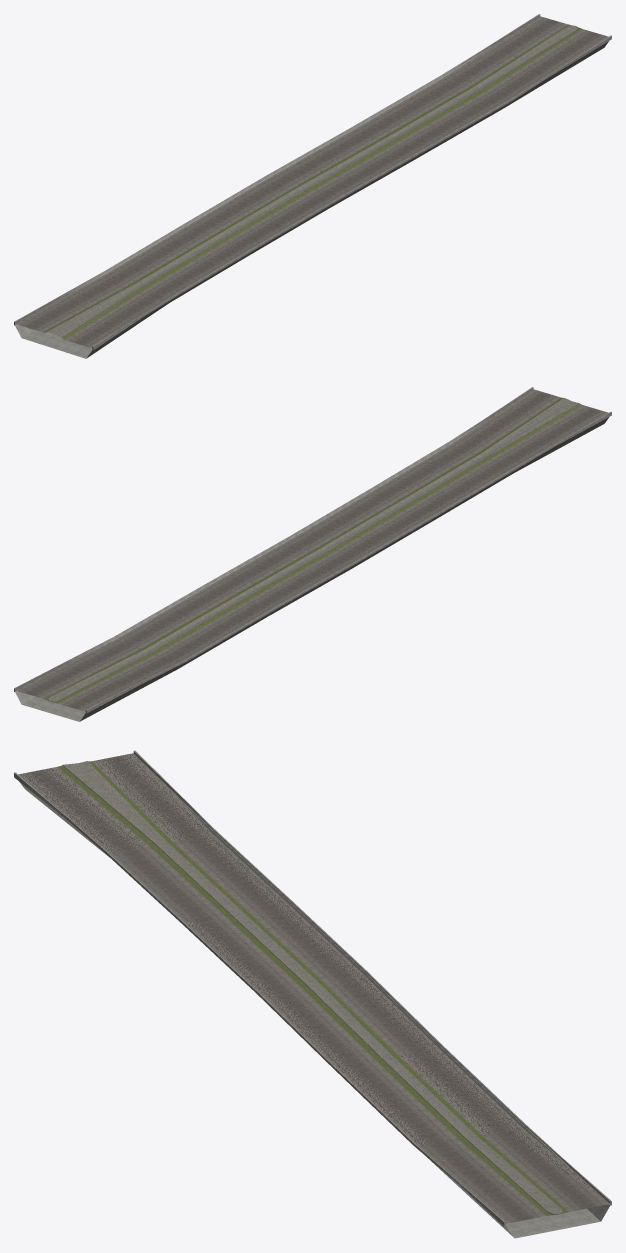
Rendered from lod_s_bit_20.obj.
3 renders of one model, top to bottom at view 1: azimuth 30°, elevation 25°; view 2: azimuth 210°, elevation 25°; view 3: azimuth 270°, elevation 25°, orthographic. The views are drawn at different scales.
Parts seen in each view (by area): view 1: lod_s_bit_20; view 2: lod_s_bit_20; view 3: lod_s_bit_20.
Boxes of the visible parts, <box> form: lod_s_bit_20: <box>14,14,611,358</box>; lod_s_bit_20: <box>14,387,611,721</box>; lod_s_bit_20: <box>14,750,611,1238</box>.
Bounding box in the file's own units: 249 × 6.16 × 131.
5 materials, 5 textured.
